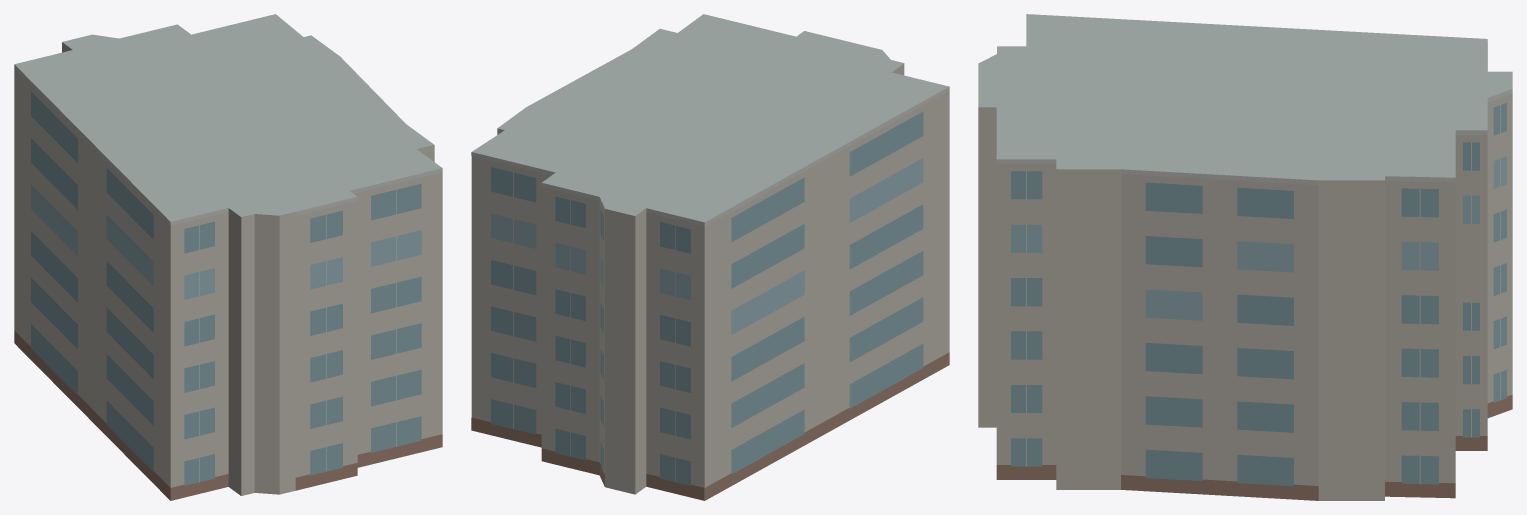
File: survey-upis-32476404.glb
3 renders of one model, left to right at view 1: azimuth 30°, elevation 25°; view 2: azimuth 150°, elevation 25°; view 3: azimuth 270°, elevation 25°, orthographic. The views are drawn at different scales.
Visible parts, largest first — view 1: survey-upis-32476404.tmp; view 2: survey-upis-32476404.tmp; view 3: survey-upis-32476404.tmp.
Boxes of the visible parts, x1,y1,x2,y2 form: survey-upis-32476404.tmp: [14, 14, 442, 500]; survey-upis-32476404.tmp: [471, 14, 949, 500]; survey-upis-32476404.tmp: [978, 14, 1512, 500].
Bounding box in the file's own units: 18.83 × 16.9 × 25.54.
